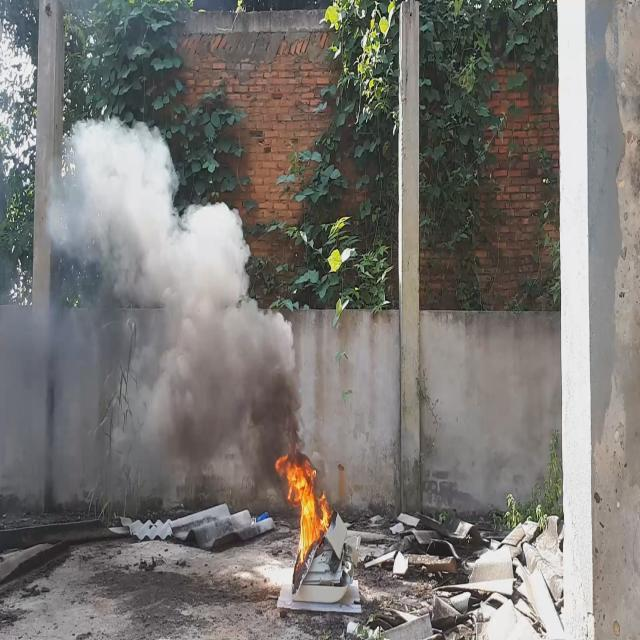Fire: (276, 442, 335, 570)
Smoke: (46, 113, 306, 487)
